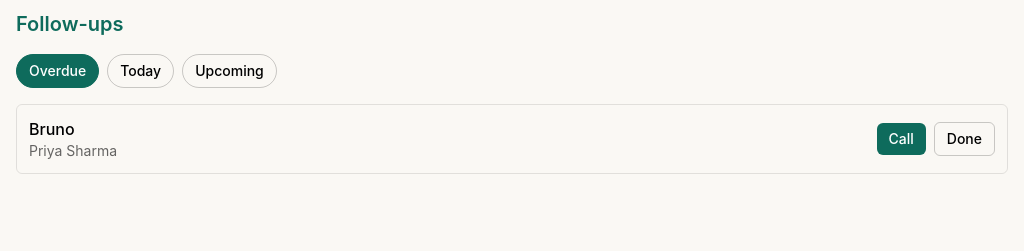
Test: FollowUpsPage › marks a follow-up done and shows a log-a-case prompt
Expected: the text "Bruno" is shown, top-left (29, 119), bottom-right (75, 139)
Click the button "Done" at [964, 139], box top-left (934, 122), bottom-right (995, 156)
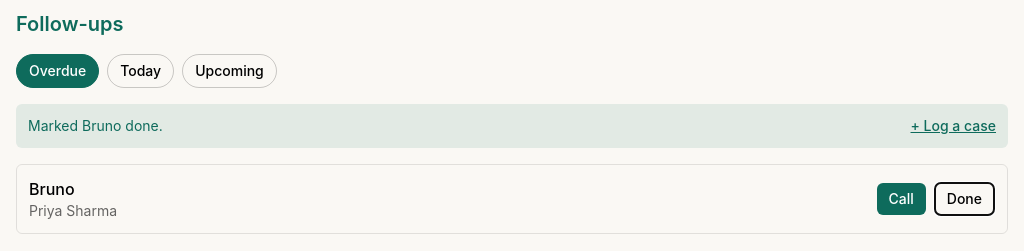
Expected: the text "Marked Bruno done." is shown, top-left (28, 116), bottom-right (163, 136)
